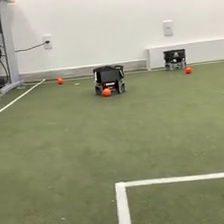ball: (101, 86, 112, 98), (56, 75, 65, 84), (184, 65, 192, 75)
goal: (142, 36, 224, 73)
robot: (90, 62, 128, 97), (161, 47, 188, 72)
